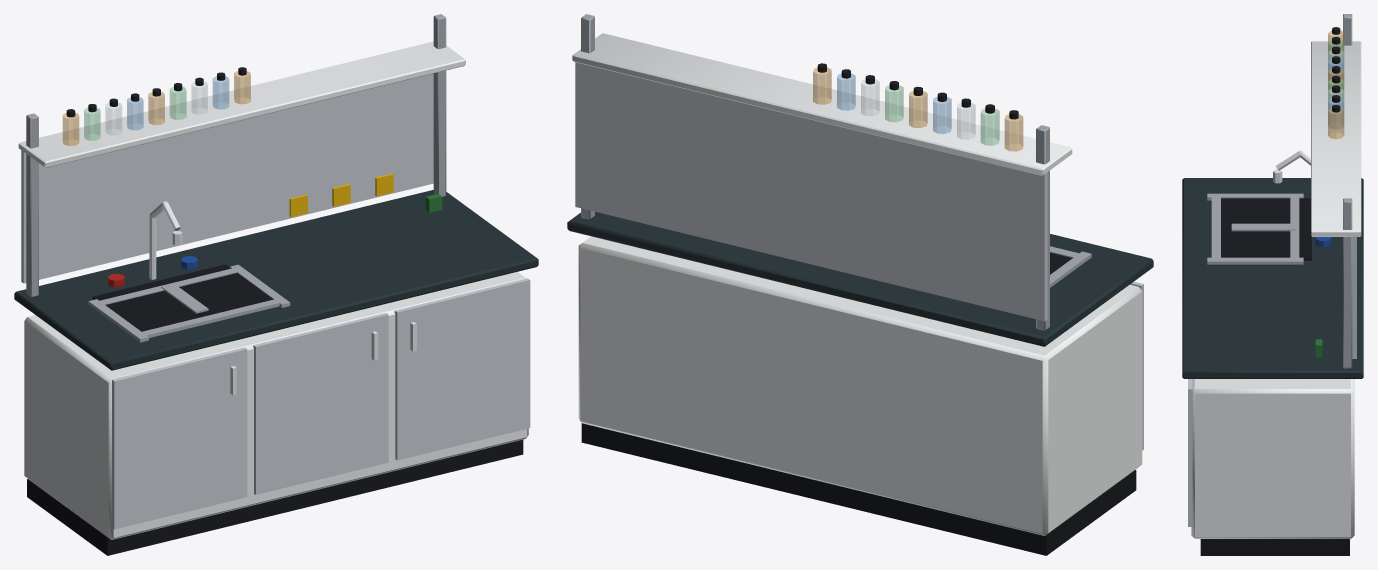
The model's file is labbench_wet_bench_sink.glb.
3 views of the same model, side by side, from view 1: azimuth 30°, elevation 25°; view 2: azimuth 150°, elevation 25°; view 3: azimuth 270°, elevation 25° (orthographic). The views are drawn at different scales.
Visible parts, largest first — view 1: labbench_wet_bench_sink; view 2: labbench_wet_bench_sink; view 3: labbench_wet_bench_sink.
Boxes of the visible parts, bbox=[...] form: labbench_wet_bench_sink: bbox=[14, 14, 538, 555]; labbench_wet_bench_sink: bbox=[567, 14, 1153, 555]; labbench_wet_bench_sink: bbox=[1182, 14, 1363, 555].
Bounding box in the file's own units: 2 × 1.71 × 0.79.
